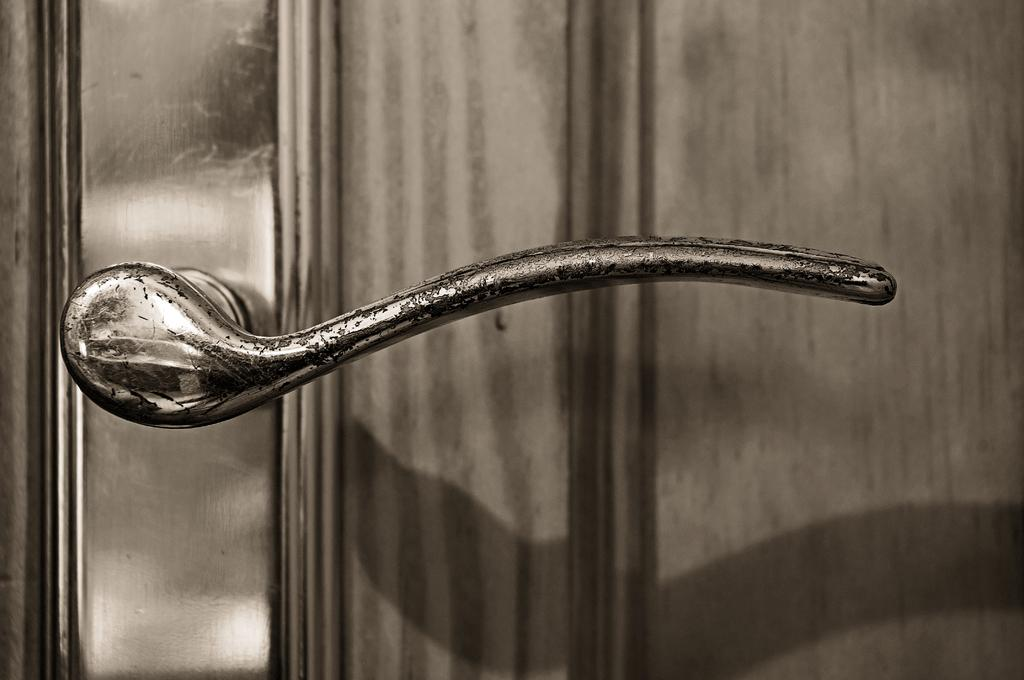handle: (68, 234, 899, 427)
